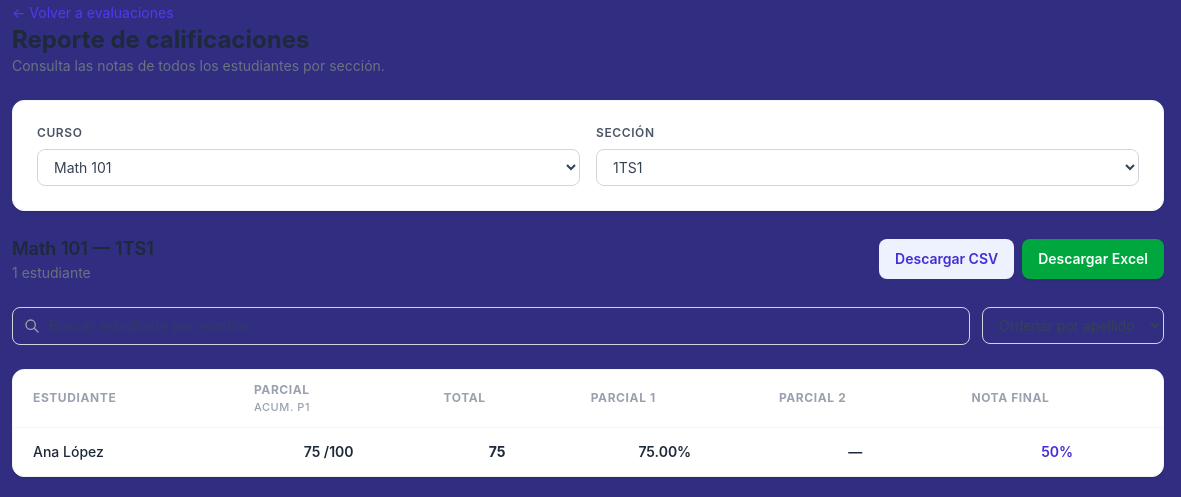
GradesReportPage › guarda una nota válida y actualiza el total
The width and height of the screenshot is (1181, 497).
Expected: the text "75.00%" is shown, [638, 443, 691, 460]
Click the button "75 /100" at [329, 452], box [296, 440, 362, 464]
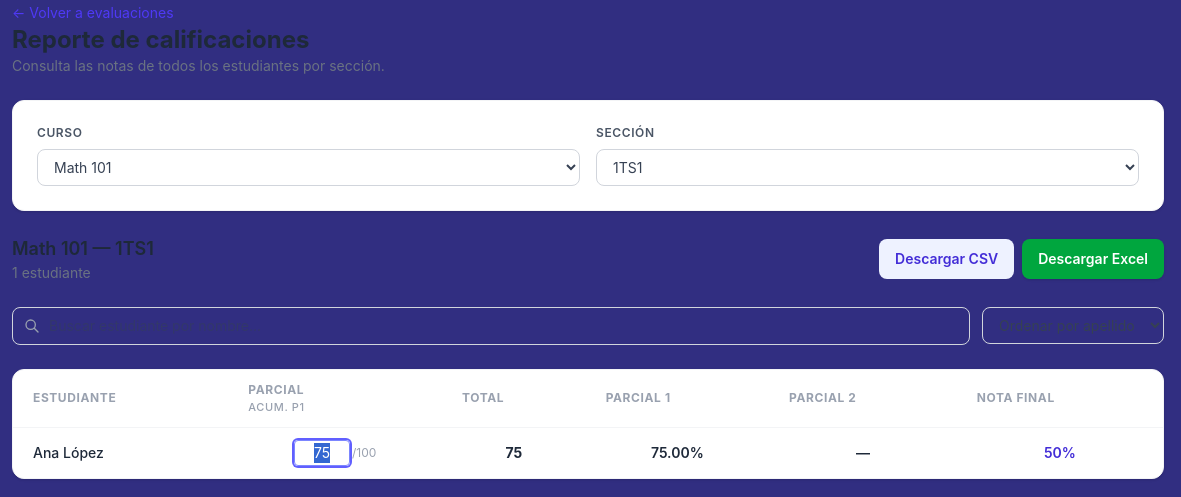
Replace the text in the field showing "75" with "85" at [322, 453], box [294, 440, 350, 466]
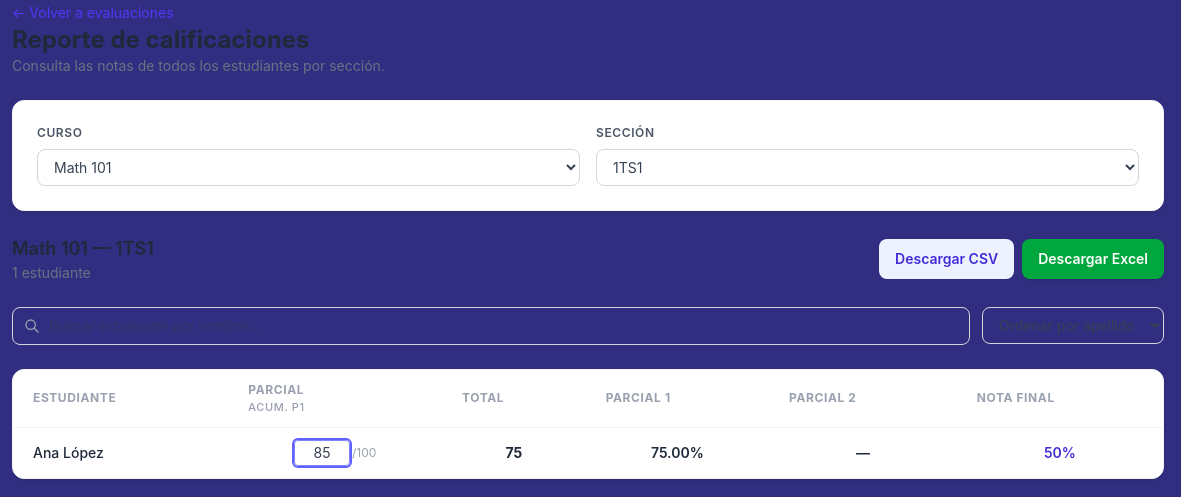
Press Enter in the field showing "75", box [294, 440, 350, 466]
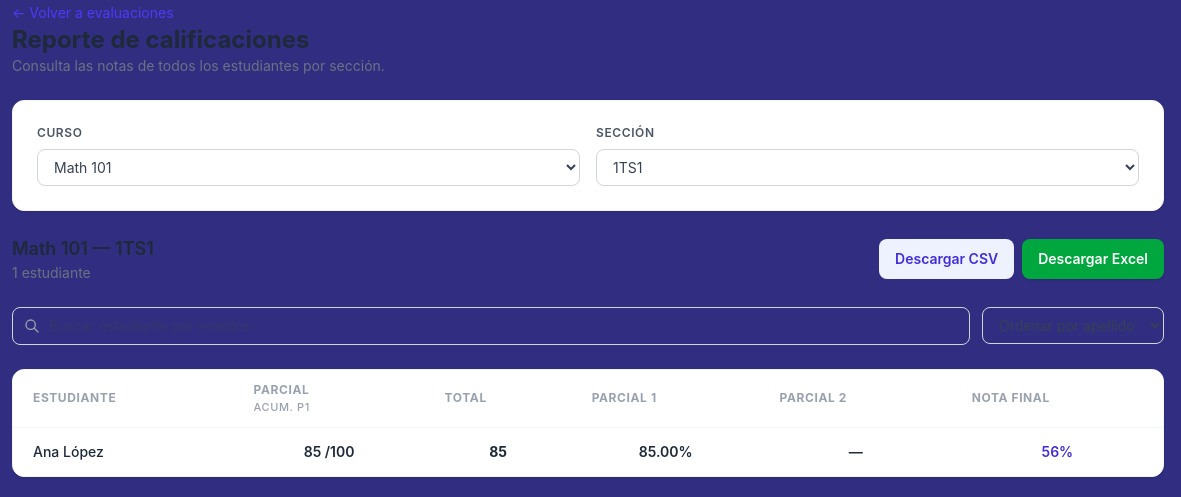
Result: the text "85 /100" is shown at [304, 443, 354, 460]
